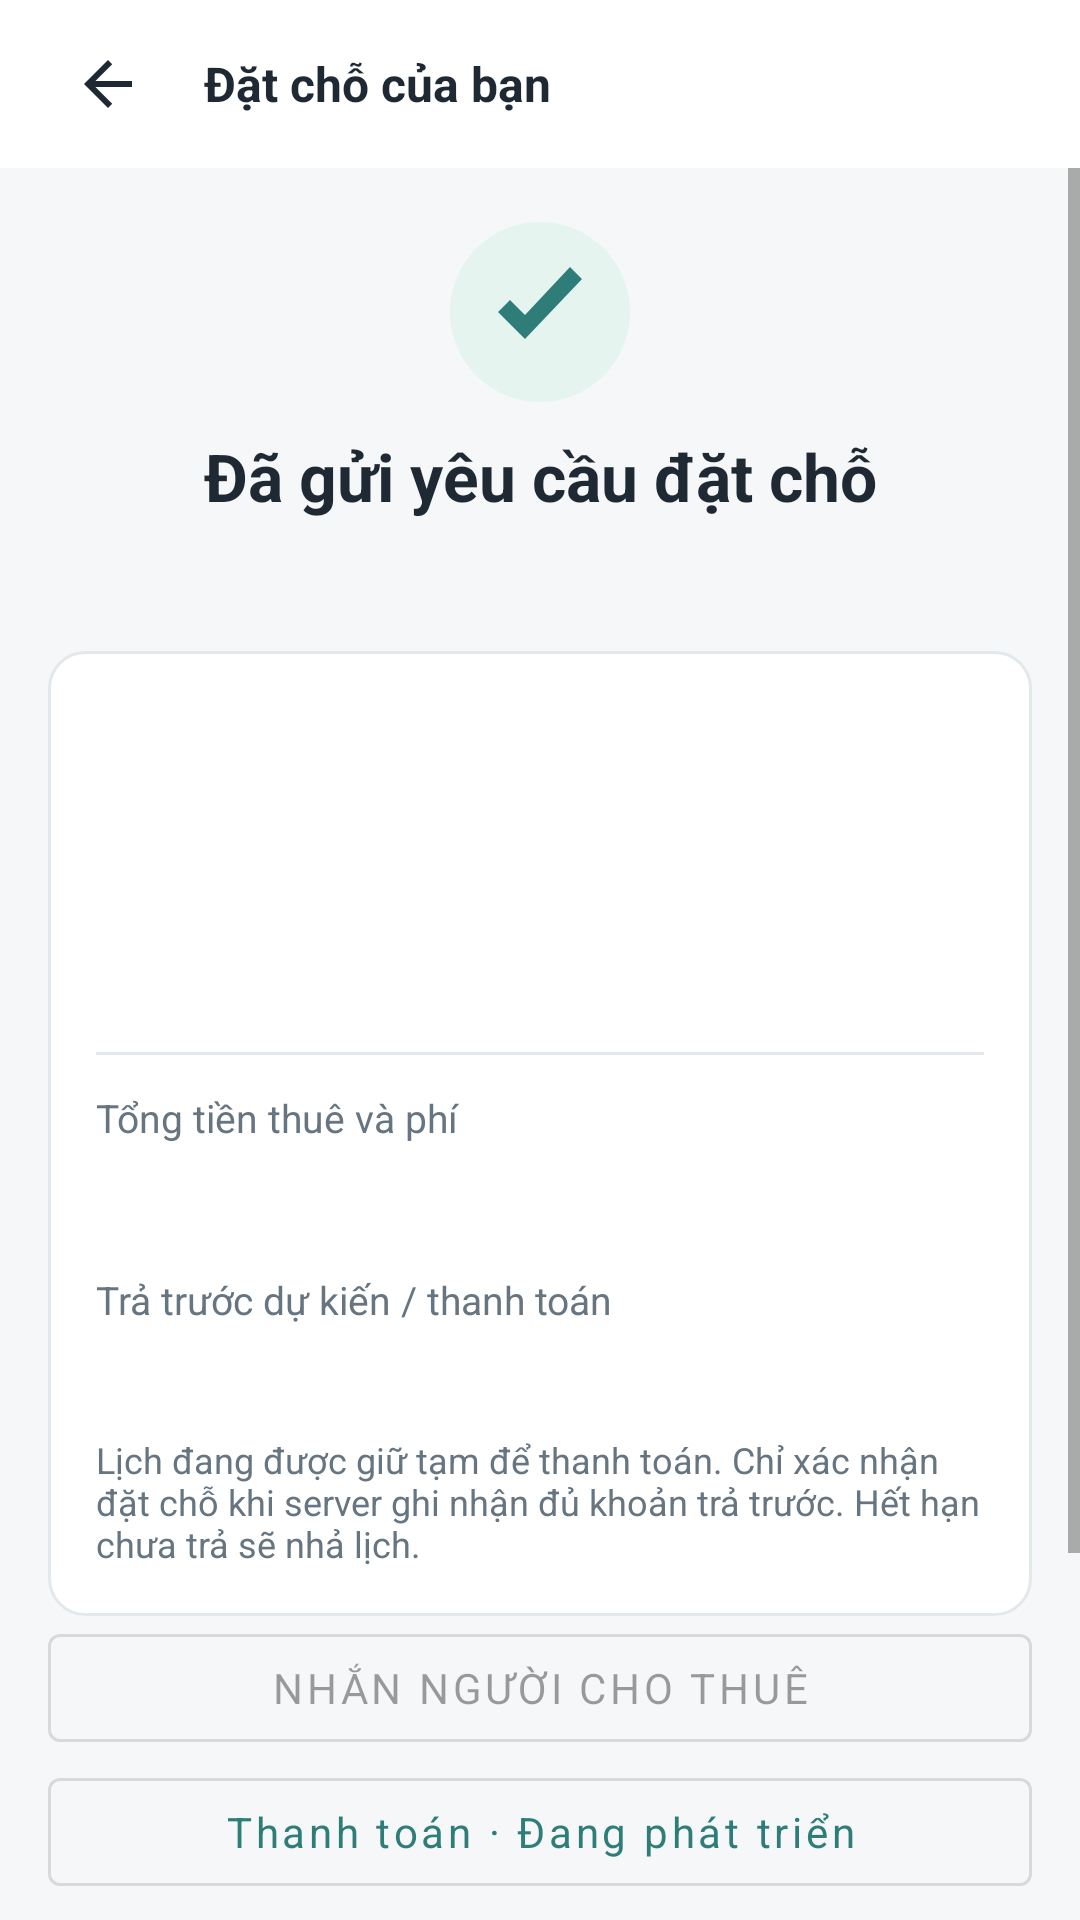

Where icons sit on this 1080 × 1920 app screen, as (x1, y1, x2, y2):
Quay lại: (84, 60, 132, 108)
